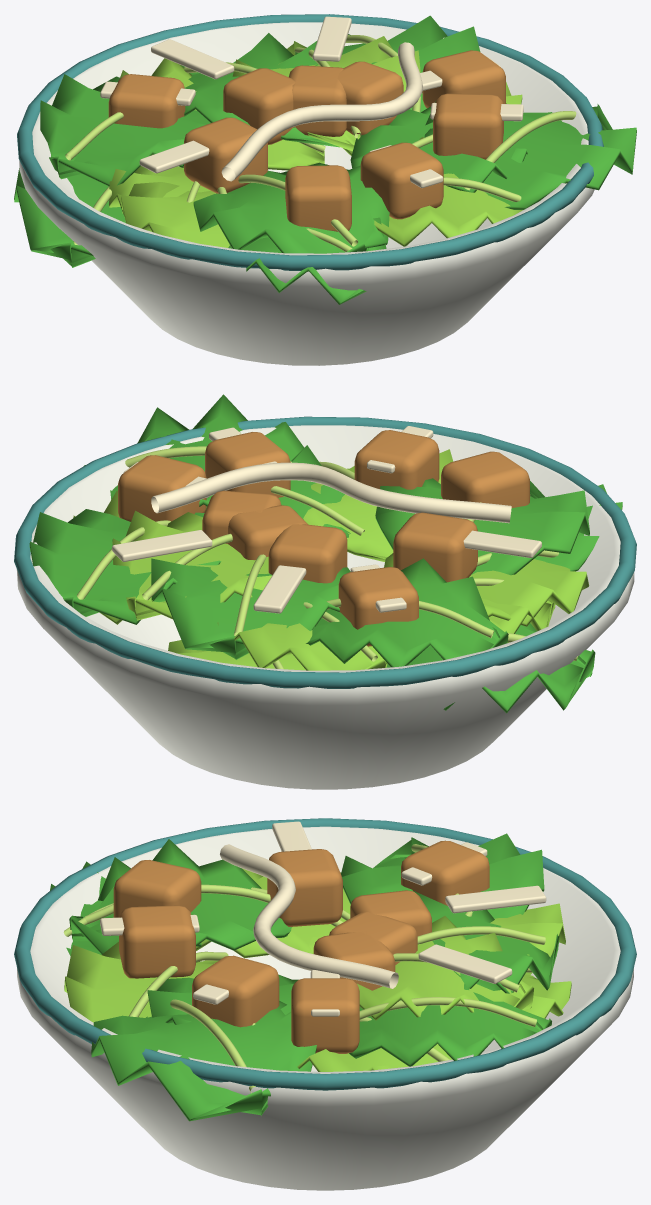
The model's file is caesar-salad.glb.
3 views of the same model, one above another, from view 1: azimuth 30°, elevation 25°; view 2: azimuth 150°, elevation 25°; view 3: azimuth 270°, elevation 25° (orthographic). The views are drawn at different scales.
Parts seen in each view (by area): view 1: caesar-salad_mesh; view 2: caesar-salad_mesh; view 3: caesar-salad_mesh.
Part boxes in pixels (x1,y1,x2,y2): caesar-salad_mesh: [14, 14, 636, 365]; caesar-salad_mesh: [14, 394, 636, 789]; caesar-salad_mesh: [14, 818, 636, 1190].
Size of the model in its own units: 0.3208 by 0.1283 by 0.318.
